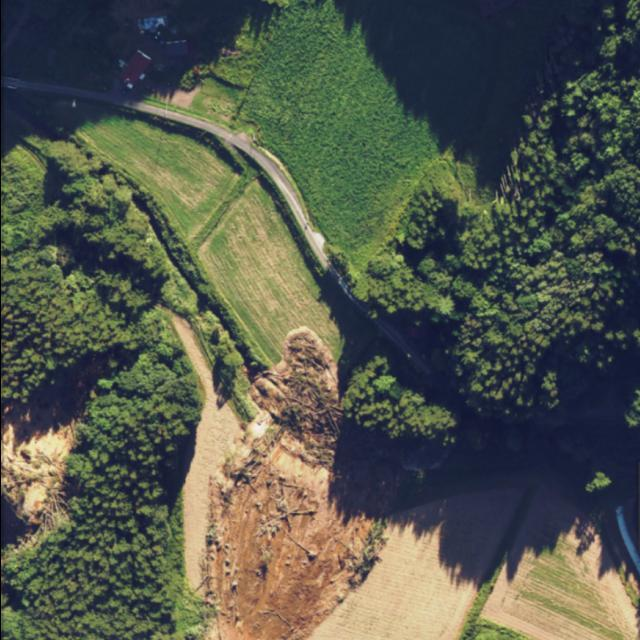landslide: (205, 327, 394, 640), (0, 348, 121, 559)
